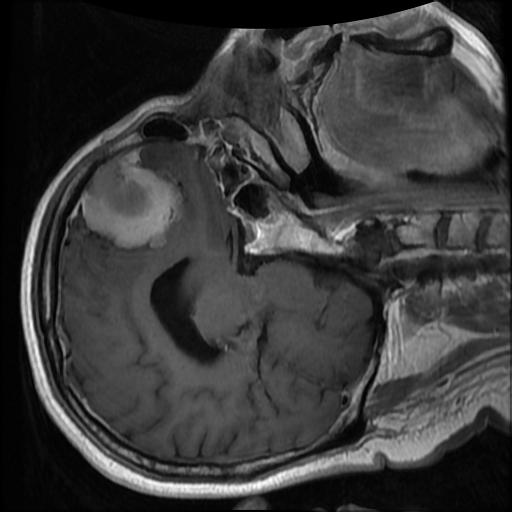meningioma: (81, 147, 184, 250)
